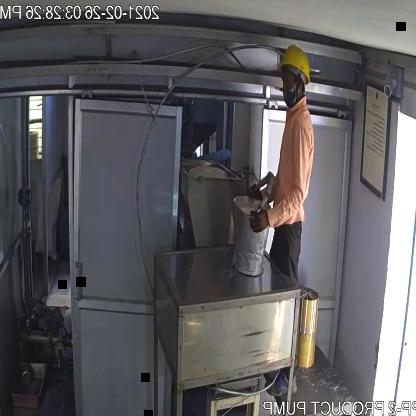helmet: (274, 43, 316, 85)
